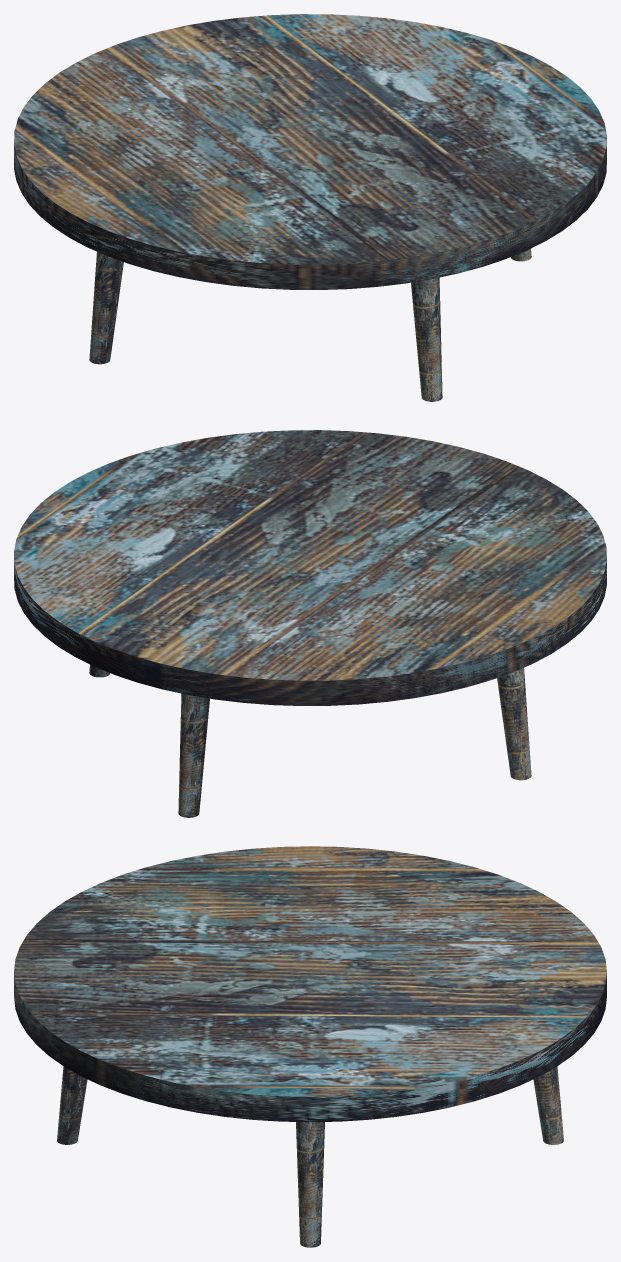
Rendered from table.glb.
3 renders of one model, top to bottom at view 1: azimuth 30°, elevation 25°; view 2: azimuth 150°, elevation 25°; view 3: azimuth 270°, elevation 25°, orthographic.
Visible parts, largest first — view 1: Cylinder, Cylinder.004, Cylinder.003; view 2: Cylinder, Cylinder.002, Cylinder.003; view 3: Cylinder, Cylinder.001, Cylinder.002, Cylinder.004.
Boxes of the visible parts, x1,y1,x2,y2 form: Cylinder: (14,14,606,289); Cylinder.004: (411,277,442,401); Cylinder.003: (89,252,123,364); Cylinder: (14,430,606,705); Cylinder.002: (178,693,209,817); Cylinder.003: (497,668,531,780); Cylinder: (14,846,606,1122); Cylinder.001: (296,1122,324,1247); Cylinder.002: (533,1066,563,1144); Cylinder.004: (57,1066,87,1144).
Size of the model in its own units: 1.6 by 0.5039 by 1.6.
Materials: 1 (1 with a texture image).
